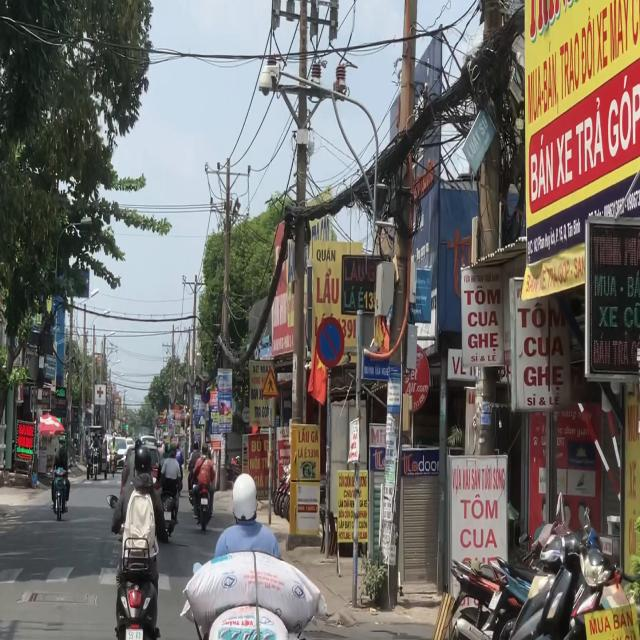Cam do: (315, 316, 345, 372)
Nguoi di bo cat ngang: (262, 365, 282, 398)
